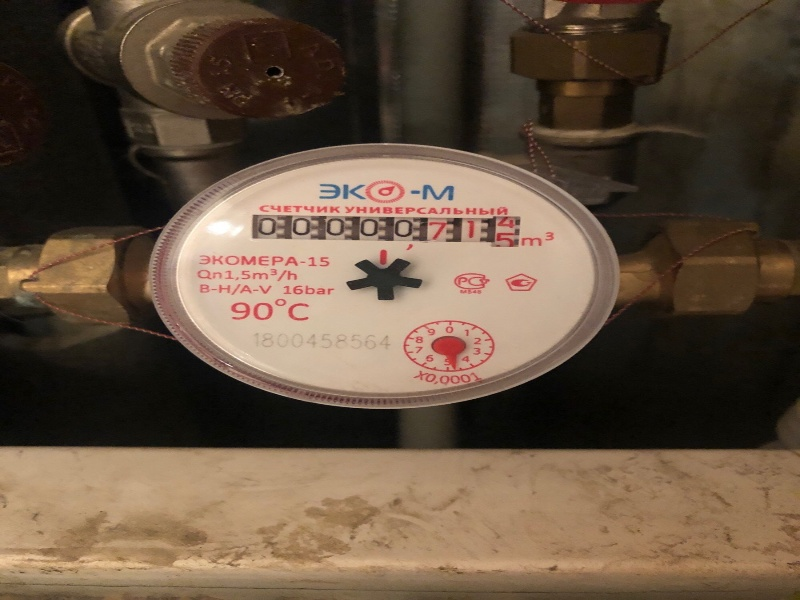meter: (249, 211, 520, 254)
